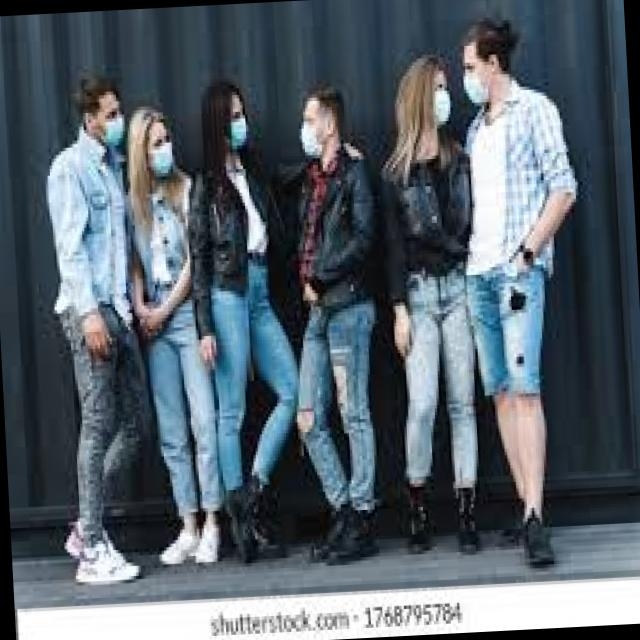Jacket: (378, 129, 484, 325), (183, 149, 285, 340), (285, 146, 378, 324)
